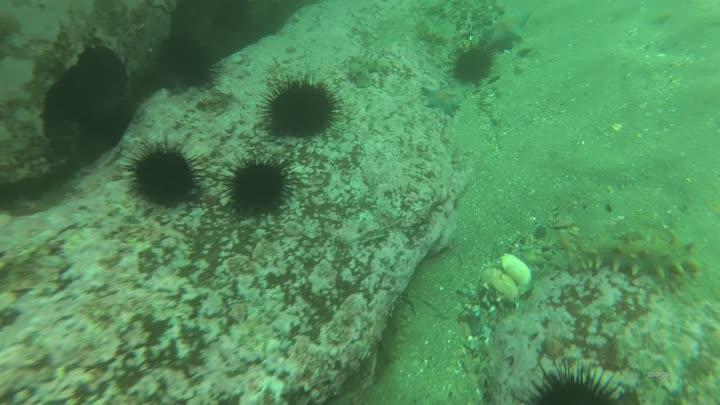urchin: (118, 137, 204, 214), (258, 71, 337, 143), (517, 356, 620, 405), (221, 152, 289, 220), (154, 30, 220, 94), (449, 44, 494, 90)
